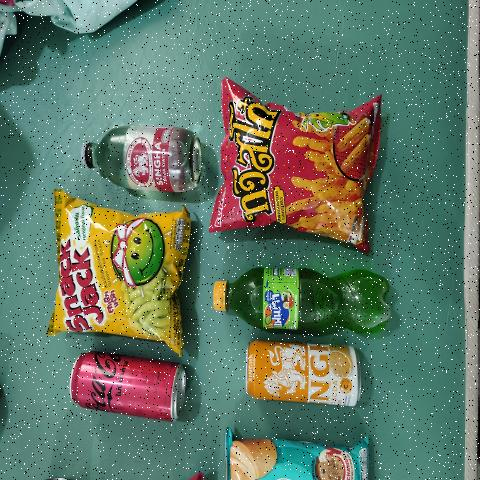coke_red: (67, 352, 192, 418)
fanta_green: (205, 265, 400, 337)
singha_soda: (80, 122, 207, 192)
singha_yellow: (246, 342, 358, 414)
snack_jack: (56, 207, 187, 336)
twisco: (226, 89, 370, 247)
